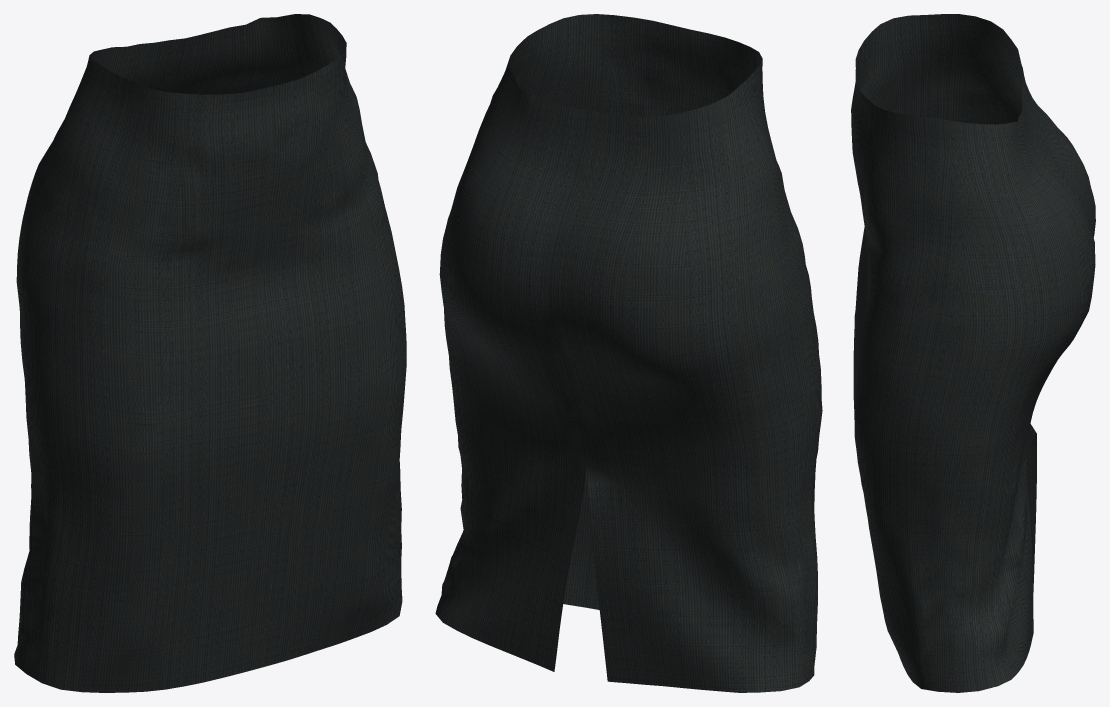
The model's file is elvs-pencil-skirt.glb.
The picture shows the model from 3 angles, left to right: view 1: azimuth 30°, elevation 25°; view 2: azimuth 150°, elevation 25°; view 3: azimuth 270°, elevation 25°; orthographic projection. The views are drawn at different scales.
Parts seen in each view (by area): view 1: Human.elvs_pencil_skirt; view 2: Human.elvs_pencil_skirt; view 3: Human.elvs_pencil_skirt.
Part boxes in pixels (x1,y1,x2,y2): Human.elvs_pencil_skirt: (14,14,406,692); Human.elvs_pencil_skirt: (435,14,822,692); Human.elvs_pencil_skirt: (851,14,1095,692).
Bounding box in the file's own units: 0.3981 × 0.6201 × 0.2481.
Materials: 1 (1 with a texture image).
